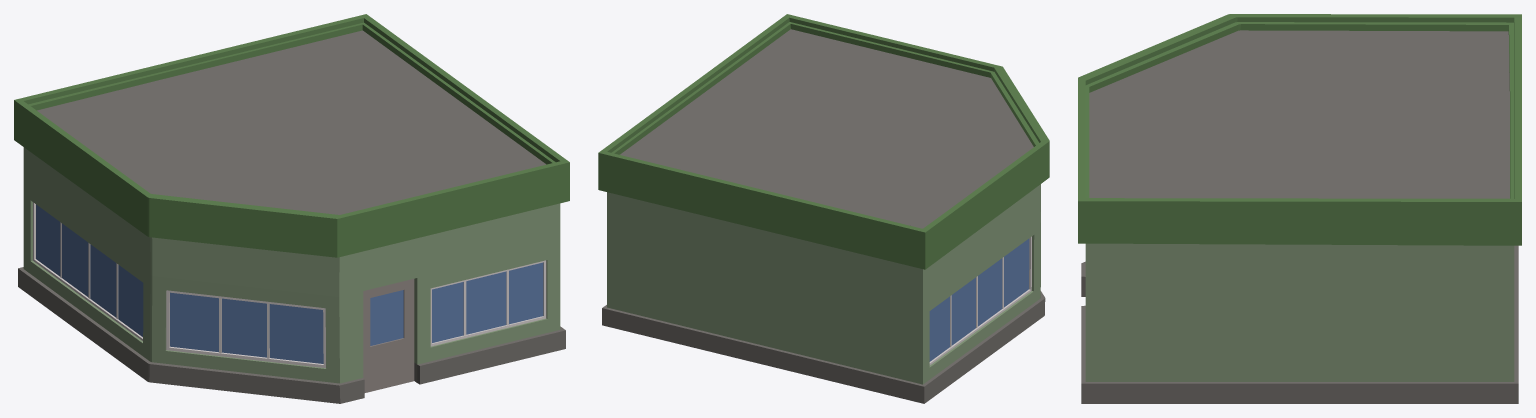
Rendered from House_18.fbx.
3 views of the same model, side by side, from view 1: azimuth 30°, elevation 25°; view 2: azimuth 150°, elevation 25°; view 3: azimuth 270°, elevation 25° (orthographic). The views are drawn at different scales.
Parts seen in each view (by area): view 1: House_18; view 2: House_18; view 3: House_18.
Boxes of the visible parts, box(x1,y1,x2,y2) form: House_18: box(14, 14, 569, 403); House_18: box(598, 14, 1049, 403); House_18: box(1078, 14, 1521, 403).
Bounding box in the file's own units: 14.11 × 7.16 × 14.11.
